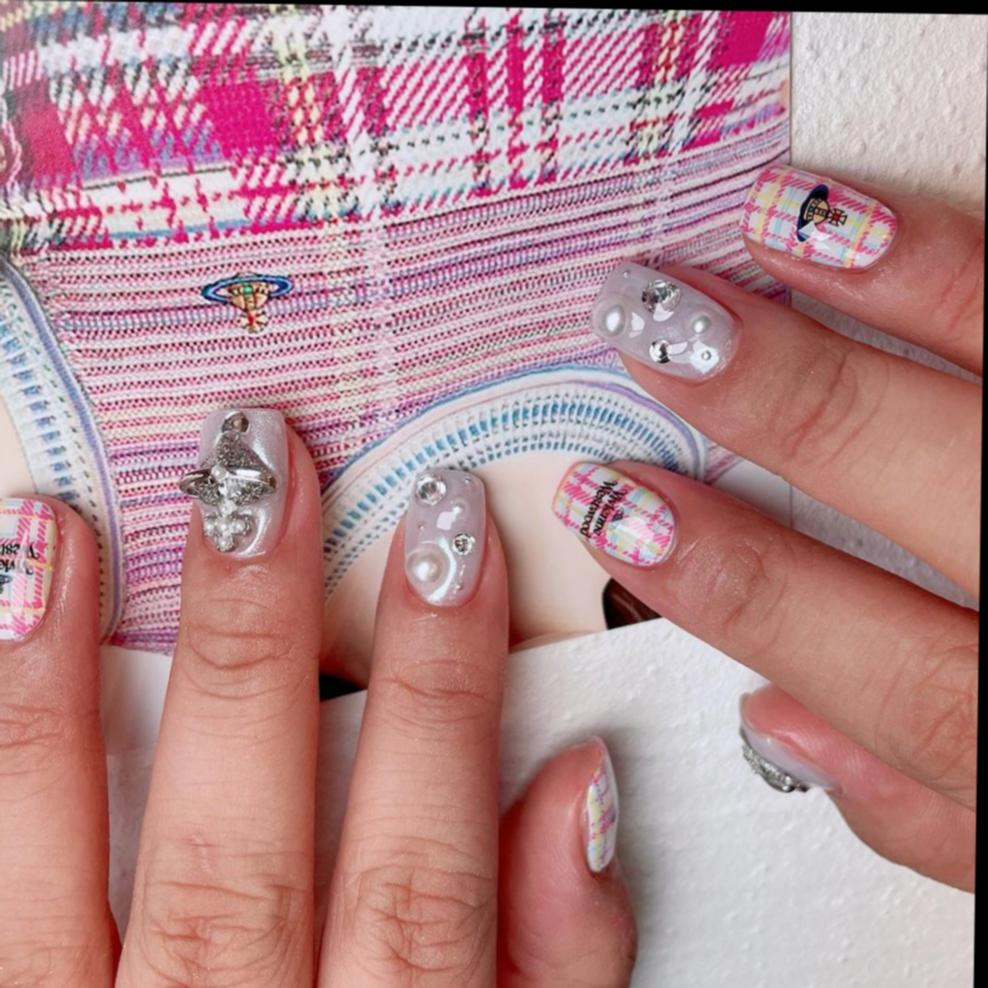nail: (589, 260, 745, 387), (179, 405, 294, 561), (741, 163, 902, 273), (552, 459, 681, 571), (402, 468, 490, 610), (0, 495, 63, 645), (737, 718, 841, 798), (583, 737, 622, 876)
